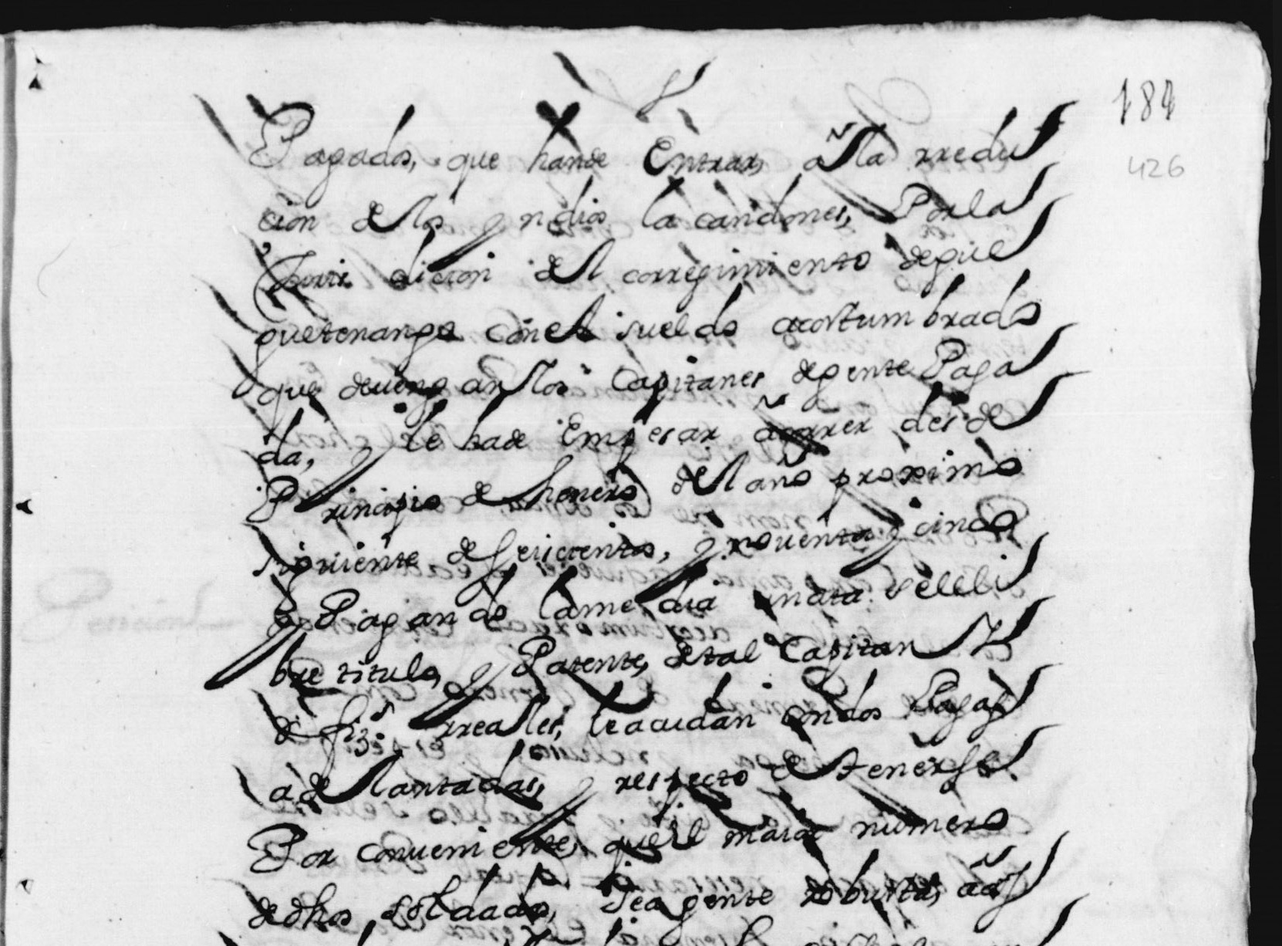lacandon: (642, 172, 847, 230)
